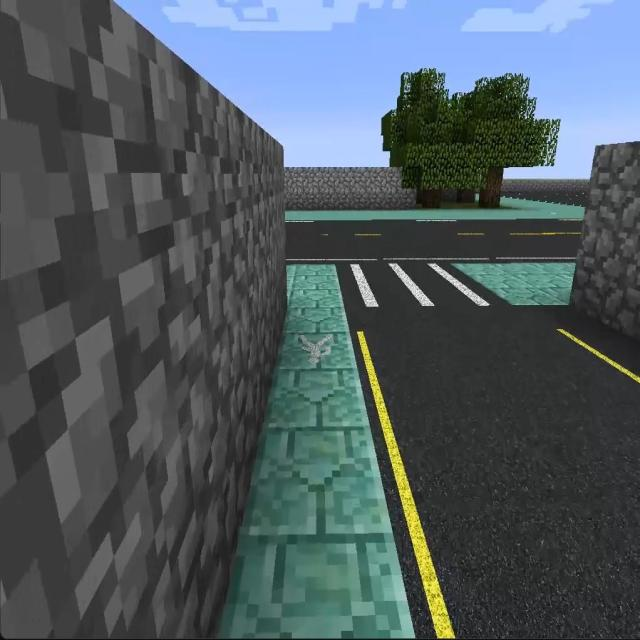crosswalk: (340, 258, 506, 317)
road: (354, 311, 639, 637), (286, 221, 584, 262)
sidewalk: (219, 263, 416, 639), (287, 200, 582, 220), (453, 263, 573, 305)
